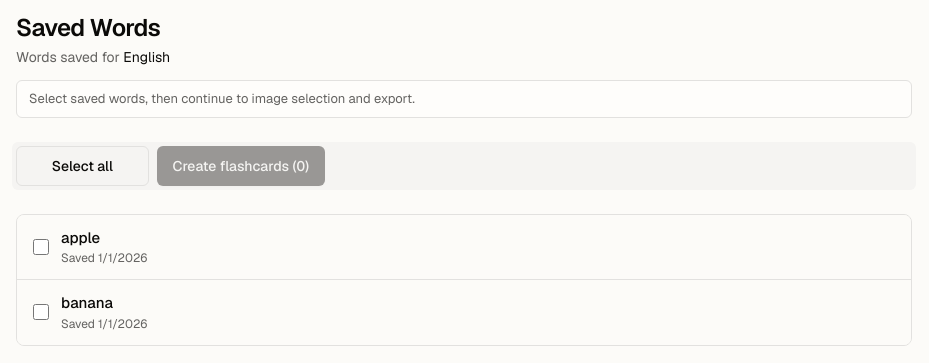
Test: SavedWordsPage › toggles select all and clear selection
The image size is (929, 363).
Click the button "Select all": (82, 166) [16,146,148,186]
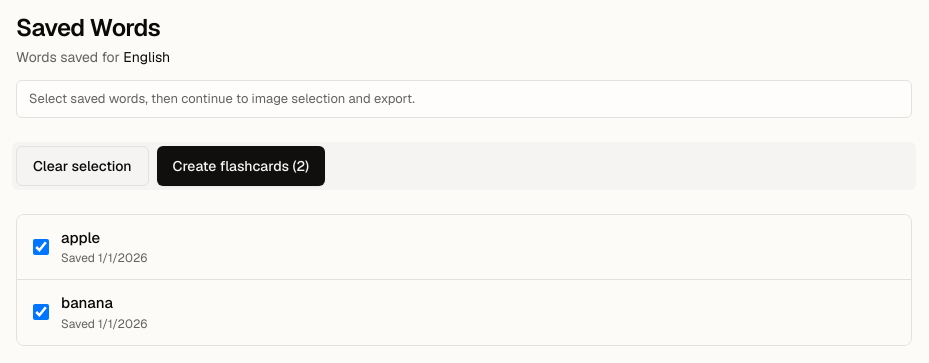
Result: the button "Create flashcards (2)" is shown at [156,146,325,186]
Click the button "Clear selection": (82, 166) [16,146,148,186]
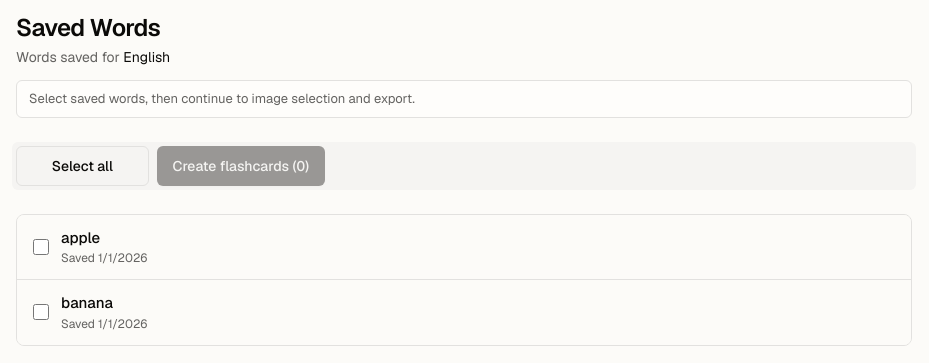
Result: the button "Create flashcards (0)" is shown at [156,146,325,186]
